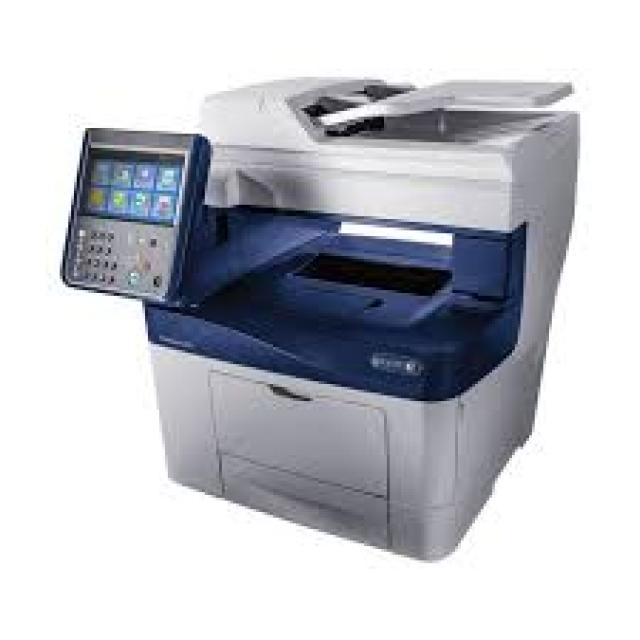printer: (54, 63, 598, 570)
